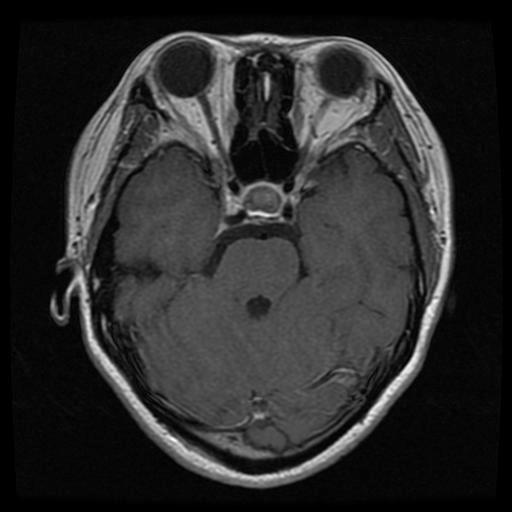Tumour-Pituitary: (219, 178, 310, 236)
